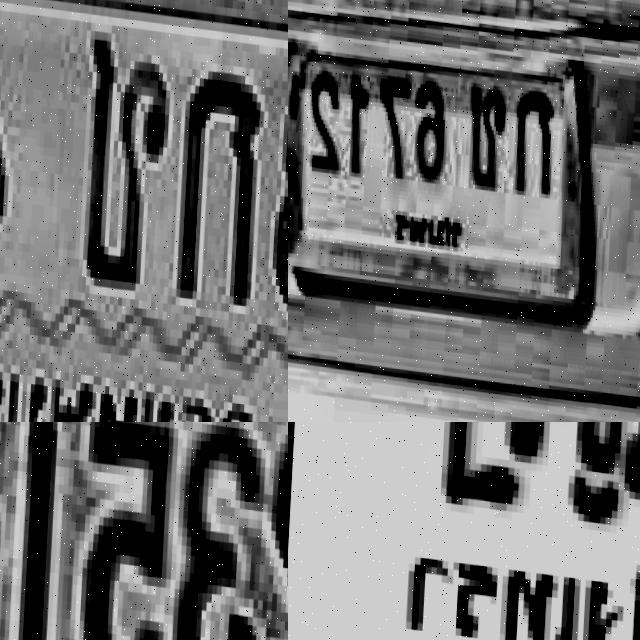license-plate: (0, 0, 288, 422), (288, 0, 615, 351), (288, 422, 640, 640), (0, 422, 288, 640)
